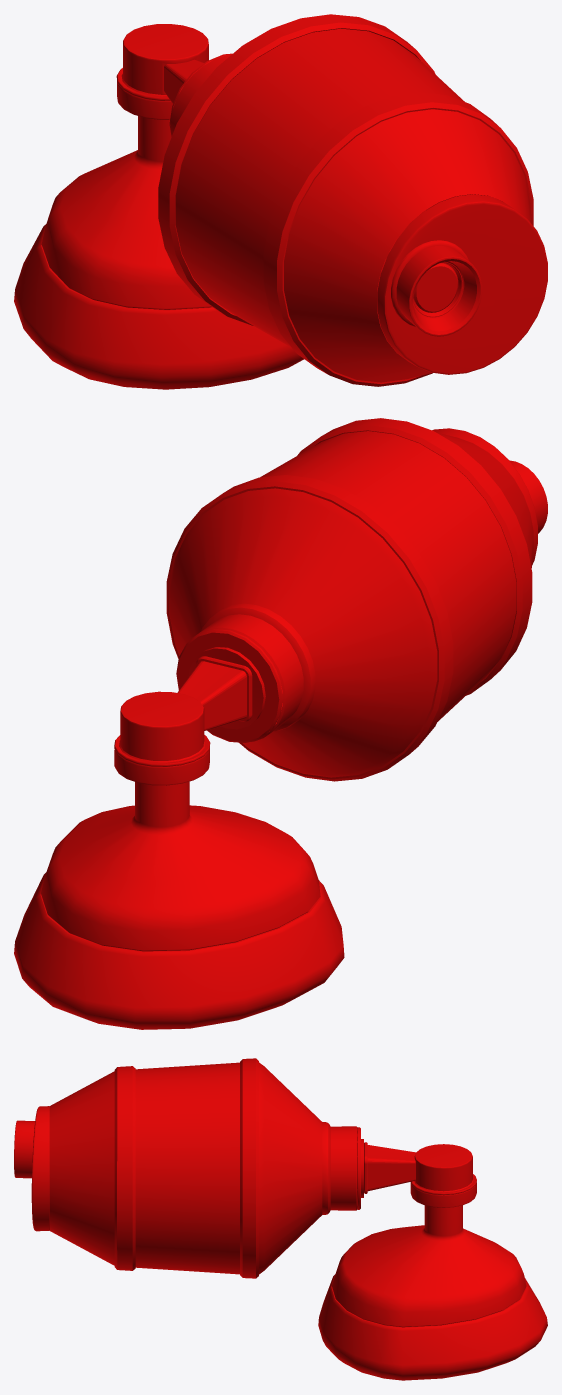
The model's file is Medical_instrument_13.fbx.
The picture shows the model from 3 angles, top to bottom: view 1: azimuth 30°, elevation 25°; view 2: azimuth 150°, elevation 25°; view 3: azimuth 270°, elevation 25°; orthographic projection. The views are drawn at different scales.
Parts seen in each view (by area): view 1: L43:polySurface1444; view 2: L43:polySurface1444; view 3: L43:polySurface1444.
Part boxes in pixels (x1,y1,x2,y2): L43:polySurface1444: (14,14,547,389); L43:polySurface1444: (14,418,547,1029); L43:polySurface1444: (14,1058,547,1380).
Bounding box in the file's own units: 14.33 × 18.69 × 33.71.
